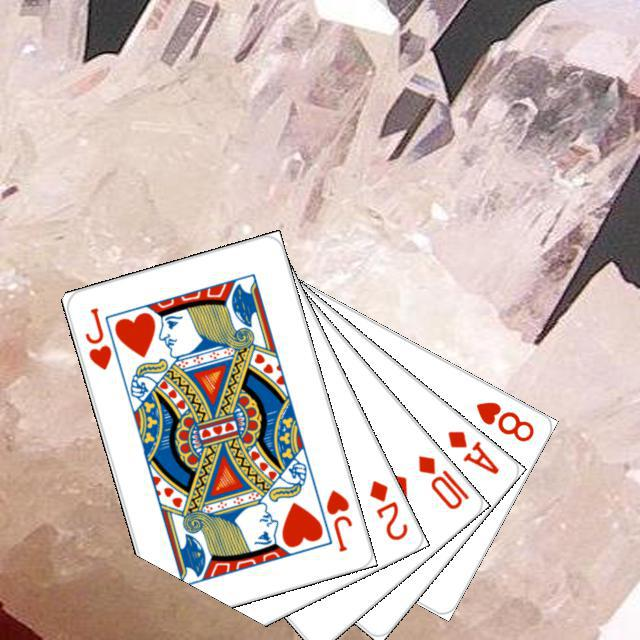10d: (413, 450, 471, 512)
2d: (364, 474, 410, 543)
8h: (470, 396, 536, 444)
Ad: (442, 425, 501, 477)
Jh: (80, 302, 114, 372), (321, 484, 354, 554)
